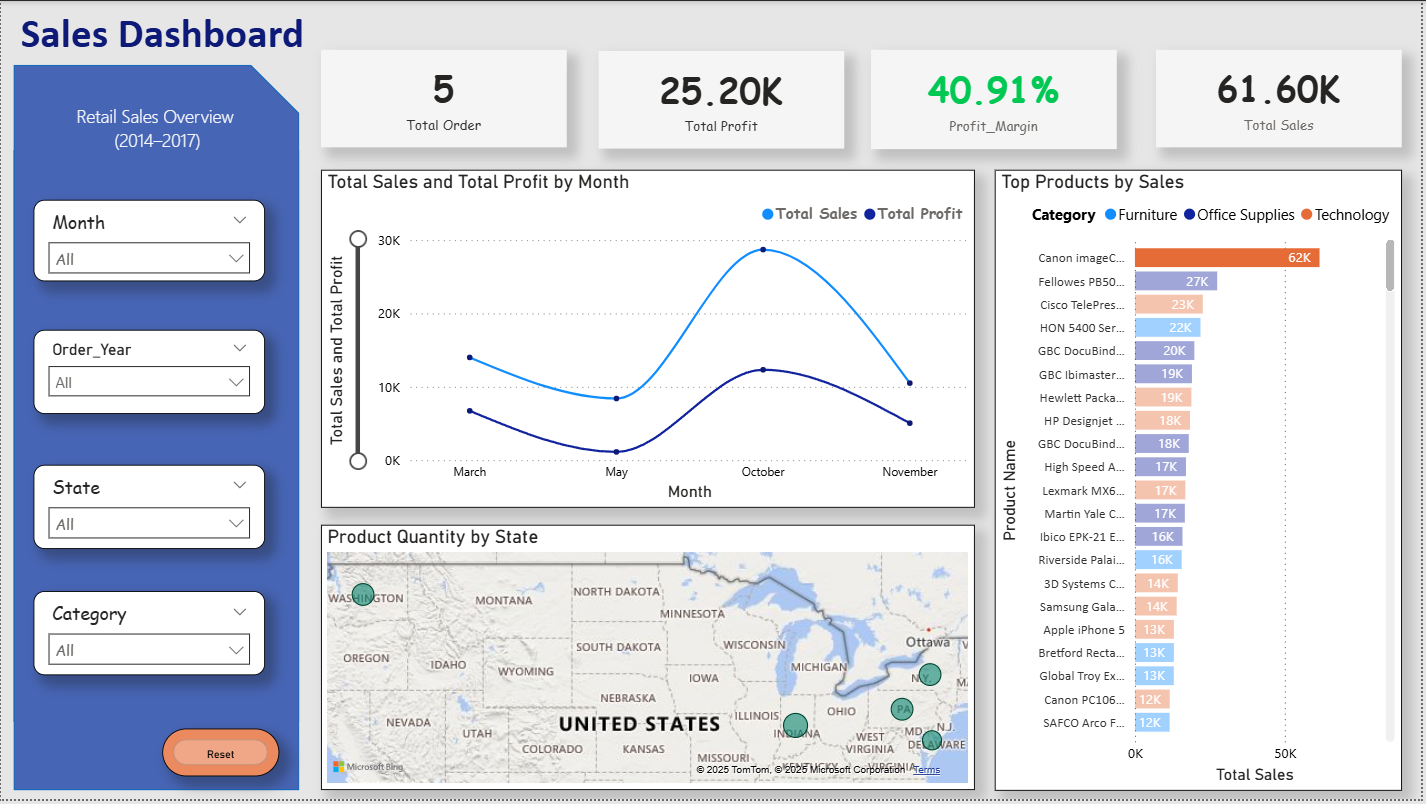

What the dashboard file says about the page in this screenshot:
{"tool":"powerbi","page":{"name":"Page 1","canvas":[1280,720],"ordinal":0},"visuals":[{"type":"shape","box":[10.7,57.8,257.9,654.2],"z":0},{"type":"card","fields":{"Values":["Sum(superstore sales_data.Sales)"]},"box":[1041.2,43.5,221.4,88.3],"z":1000},{"type":"card","fields":{"Values":["sales_data.Profit_Margin"]},"box":[784.9,43.5,221.4,89.6],"z":2000},{"type":"card","fields":{"Values":["Count(superstore sales_data.Order_ID)"]},"box":[288.6,43.5,221.4,88.3],"z":3000},{"type":"card","fields":{"Values":["Sum(superstore sales_data.Profit)"]},"box":[538.6,44.8,221.4,88.3],"z":4000},{"type":"textbox","box":[11.2,1.2,268.7,56],"z":5000},{"type":"lineChart","title":"Total Sales and Total Profit by Month","fields":{"Y":["Sum(sales_data.Sales)","Sum(sales_data.Profit)"],"Category":["sales_data.Order_Date.Variation.Date Hierarchy.Month"]},"box":[288.6,151.8,589.6,304.8],"z":6000},{"type":"map","title":"Product Quantity by State ","fields":{"Size":["Sum(sales_data.Quantity)"],"Category":["sales_data.State"]},"box":[288.6,472.7,589.6,238.8],"z":7000},{"type":"barChart","title":"Top Products by Sales","fields":{"Category":["sales_data.Product_Name"],"Y":["Sum(sales_data.Sales)"],"Series":["sales_data.Category"]},"box":[895.7,151.8,367,559.8],"z":8000},{"type":"slicer","fields":{"Values":["sales_data.Order_Month_Number"]},"box":[29.9,179.1,209,73.4],"z":9000},{"type":"slicer","fields":{"Values":["sales_data.Order_Year"]},"box":[29.9,296.1,209,75.9],"z":10000},{"type":"slicer","fields":{"Values":["sales_data.State"]},"box":[29.9,418,209,75.9],"z":11000},{"type":"slicer","fields":{"Values":["sales_data.Sub_Category"]},"box":[29.9,532.4,209,75.9],"z":12000},{"type":"textbox","box":[41.8,88.1,185.2,72.3],"z":13000},{"type":"actionButton","title":"Reset","box":[145.5,655.6,105.7,43.5],"z":14000}]}

Visuals, with their boxes in screenshot pixels (x1, y1, x2, y2), scaled from the page's 1280x720 canvas onto the 1426x804 screenshot:
shape: (x1=12, y1=65, x2=299, y2=795)
card - Sum(superstore sales_data.Sales): (x1=1160, y1=49, x2=1407, y2=147)
card - sales_data.Profit_Margin: (x1=874, y1=49, x2=1121, y2=149)
card - Count(superstore sales_data.Order_ID): (x1=322, y1=49, x2=568, y2=147)
card - Sum(superstore sales_data.Profit): (x1=600, y1=50, x2=847, y2=149)
textbox: (x1=12, y1=1, x2=312, y2=64)
"Total Sales and Total Profit by Month" lineChart: (x1=322, y1=170, x2=978, y2=510)
"Product Quantity by State " map: (x1=322, y1=528, x2=978, y2=795)
"Top Products by Sales" barChart: (x1=998, y1=170, x2=1407, y2=795)
slicer - sales_data.Order_Month_Number: (x1=33, y1=200, x2=266, y2=282)
slicer - sales_data.Order_Year: (x1=33, y1=331, x2=266, y2=415)
slicer - sales_data.State: (x1=33, y1=467, x2=266, y2=552)
slicer - sales_data.Sub_Category: (x1=33, y1=595, x2=266, y2=679)
textbox: (x1=47, y1=98, x2=253, y2=179)
"Reset" actionButton: (x1=162, y1=732, x2=280, y2=781)
